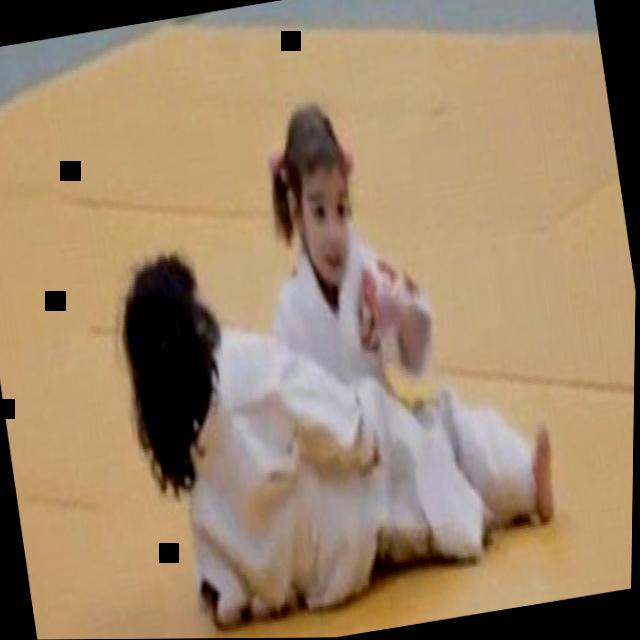Fall-Detected: (94, 177, 604, 639)
